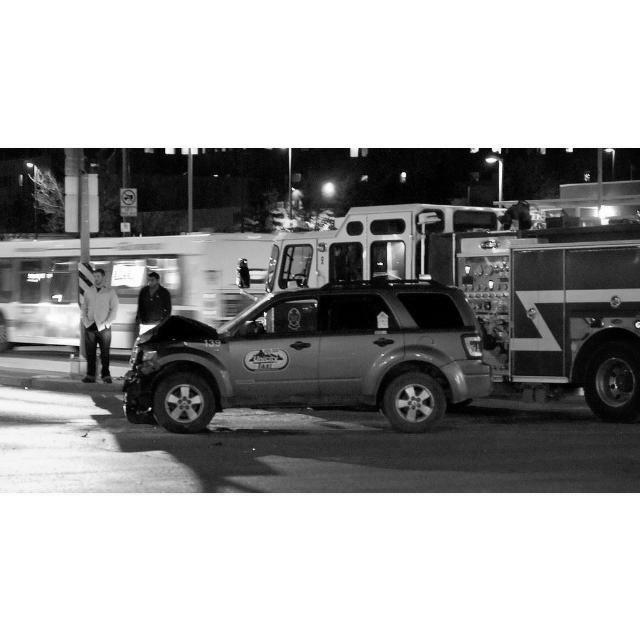bonnet-dent: (131, 315, 222, 345)
